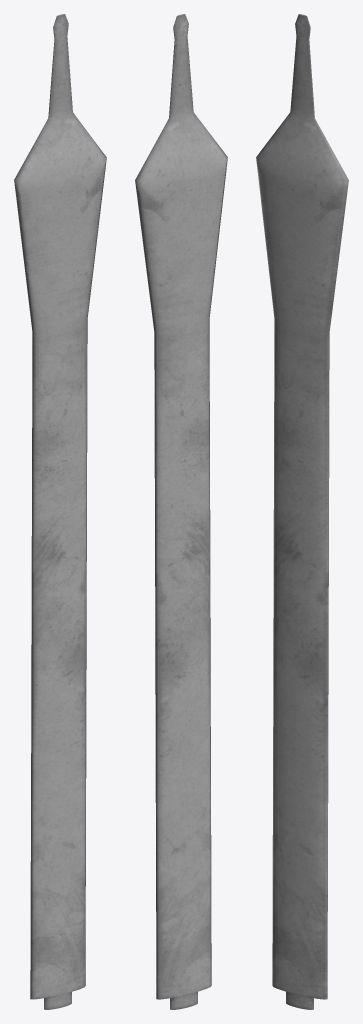
Rendered from Handles.glb.
3 renders of one model, left to right at view 1: azimuth 30°, elevation 25°; view 2: azimuth 210°, elevation 25°; view 3: azimuth 330°, elevation 25°, orthographic.
Visible parts, largest first — view 1: Hour_Hand; view 2: Hour_Hand; view 3: Hour_Hand.
Part boxes in pixels (x1,y1,x2,y2): Hour_Hand: (14,14,106,1009); Hour_Hand: (135,14,227,1009); Hour_Hand: (256,14,348,1009).
Size of the model in its own units: 0.0627 by 0.6394 by 0.0119.
1 material, 1 textured.
